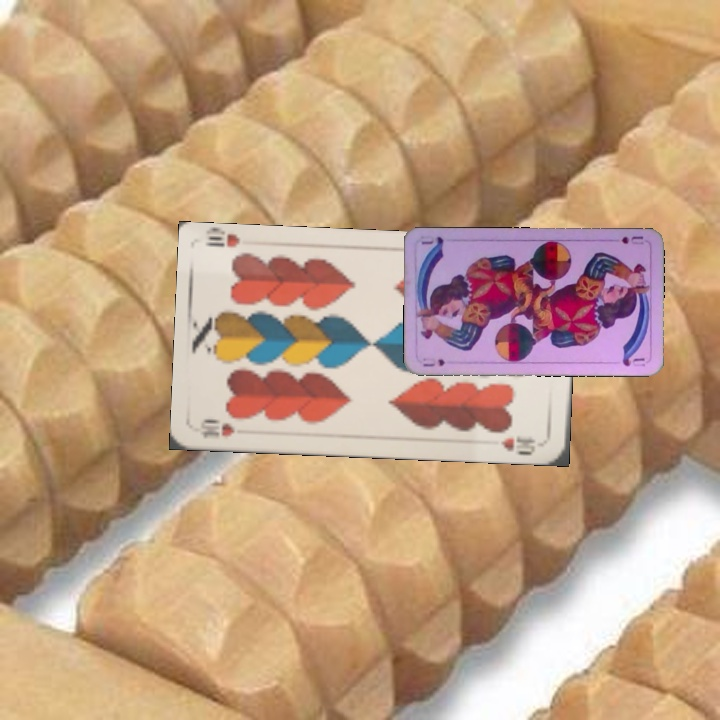H10: (194, 415, 238, 440)
SU: (618, 232, 646, 247), (419, 355, 448, 369)
